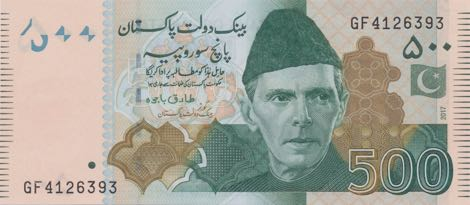500 rupee: (6, 4, 460, 200)
